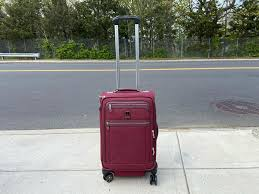suitcase: (97, 15, 160, 186)
